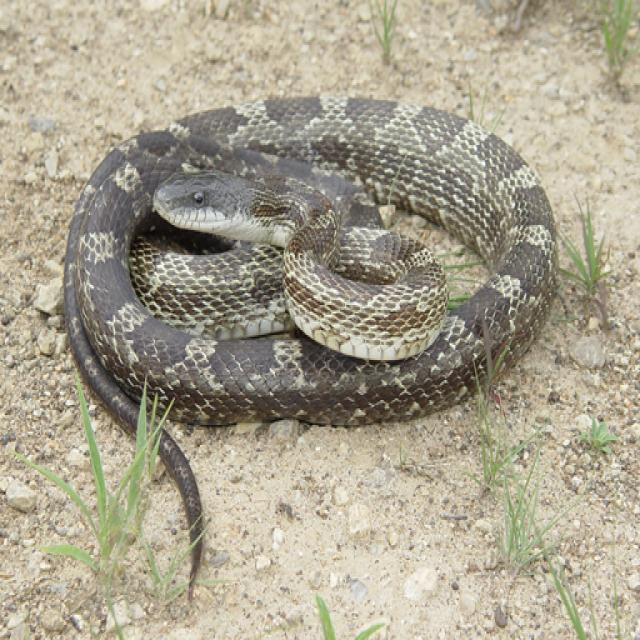Snake: (61, 89, 560, 604)
